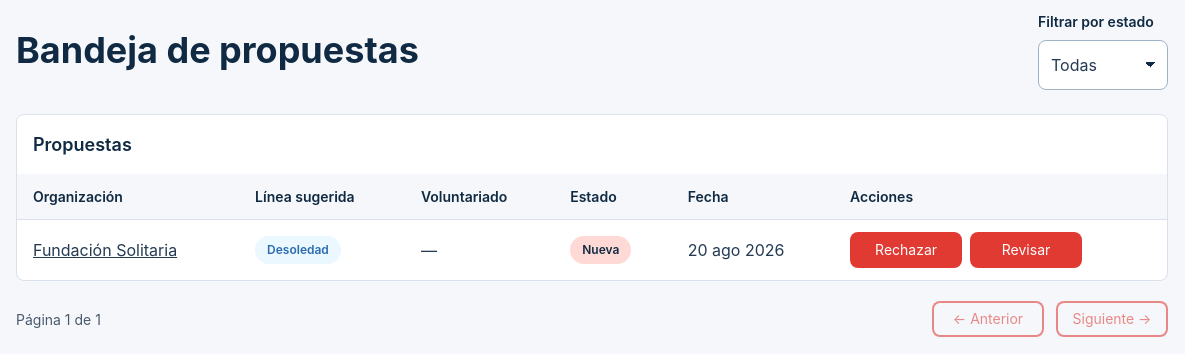
Test case: ProposalsInboxPage › filters by status when selecting a filter
Check: the link "Fundación Solitaria" is shown, box [33, 240, 177, 260]
Select "Aceptada" in the dropdown labelled "Filtrar por estado" at (1103, 65), box [1038, 40, 1168, 90]
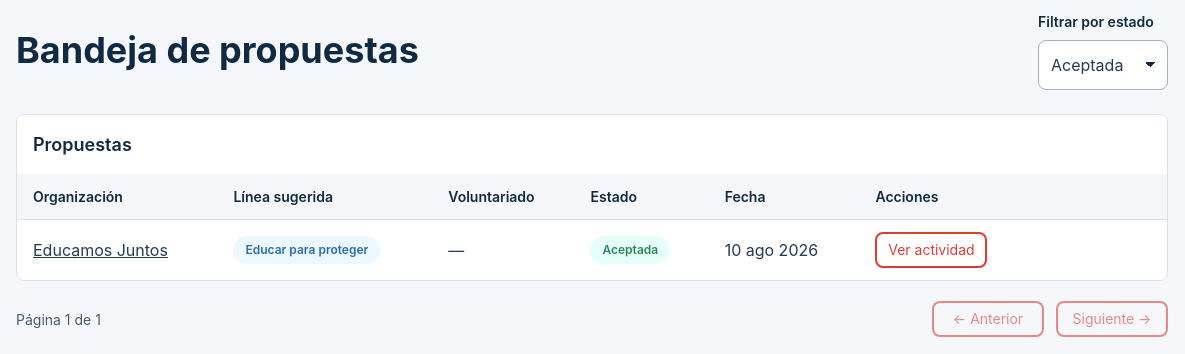
Check: the link "Educamos Juntos" is shown, box [33, 240, 168, 260]
